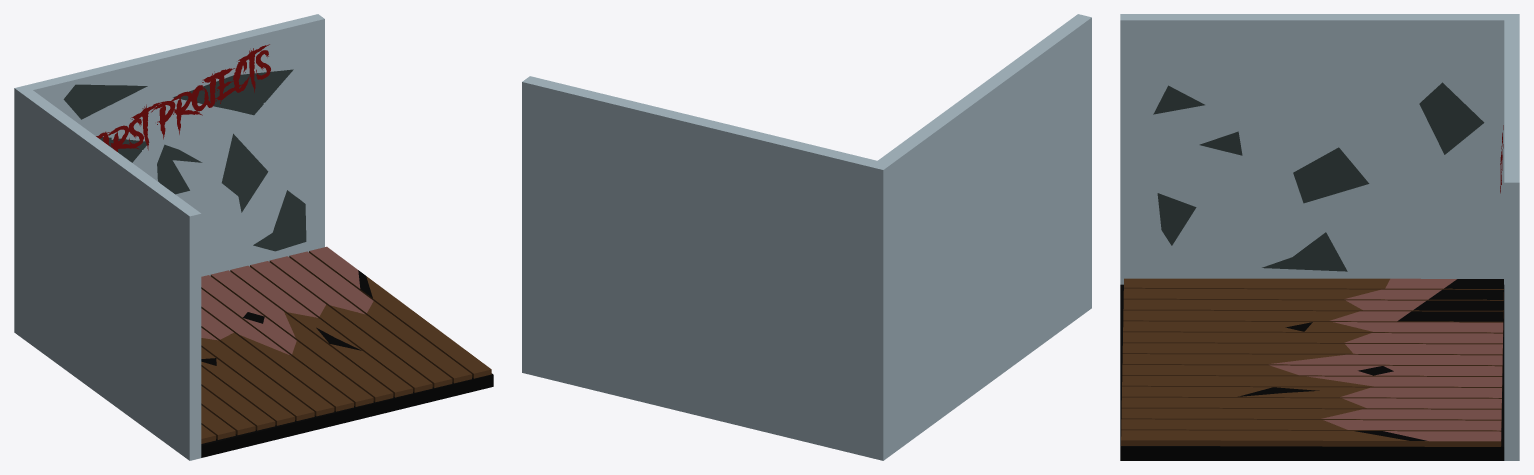
Rendered from down.gltf.
3 renders of one model, left to right at view 1: azimuth 30°, elevation 25°; view 2: azimuth 150°, elevation 25°; view 3: azimuth 270°, elevation 25°, orthographic. The views are drawn at different scales.
Visible parts, largest first — view 1: wall left, wall right, plank, Floor, Text; view 2: wall right, wall left; view 3: wall left, plank, wall right, Floor.
Boxes of the visible parts, box(x1,y1,x2,y2) form: wall left: box(21, 90, 201, 460); wall right: box(14, 14, 324, 337); plank: box(201, 246, 491, 443); Floor: box(201, 373, 493, 457); Text: box(96, 44, 270, 151); wall right: box(522, 76, 891, 460); wall left: box(877, 14, 1091, 454); wall left: box(1120, 14, 1504, 284); plank: box(1121, 278, 1503, 446); wall right: box(1504, 14, 1519, 460); Floor: box(1120, 284, 1504, 460).
Size of the model in its own units: 10.42 by 8 by 10.4.
